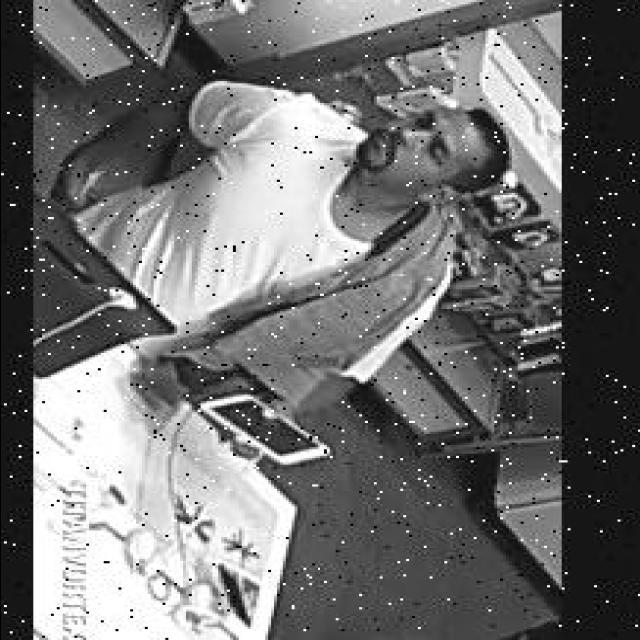Shoplifting: (39, 64, 519, 484)
